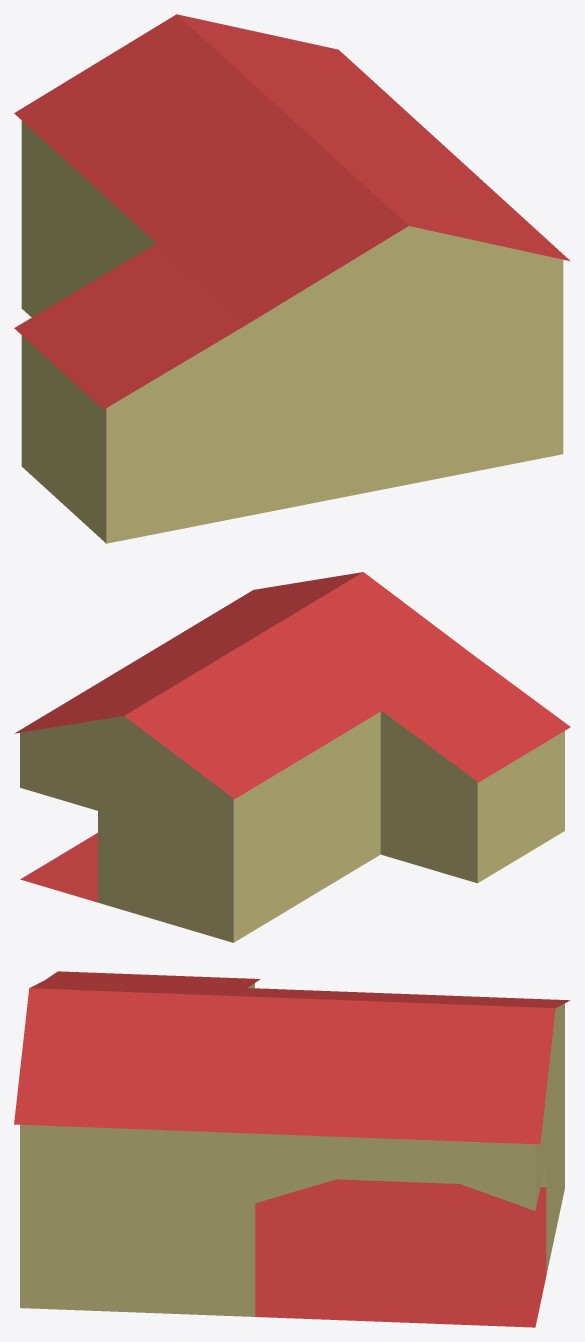
3 renders of one model, top to bottom at view 1: azimuth 30°, elevation 25°; view 2: azimuth 150°, elevation 25°; view 3: azimuth 270°, elevation 25°, orthographic. The views are drawn at different scales.
Bounding box in the file's own units: 24.55 × 25.41 × 12.58.
